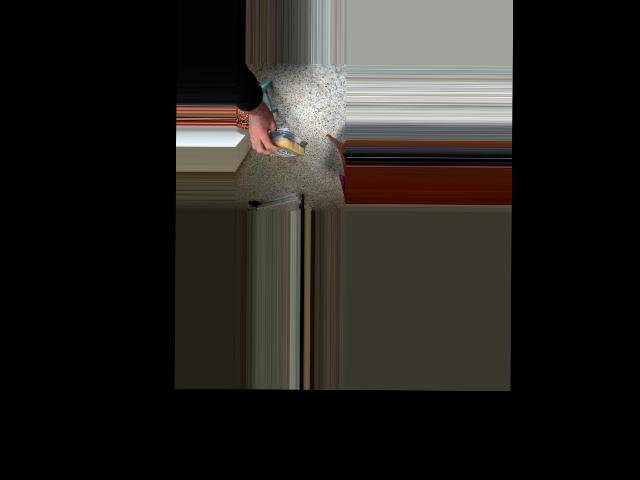cheese: (261, 134, 307, 157)
